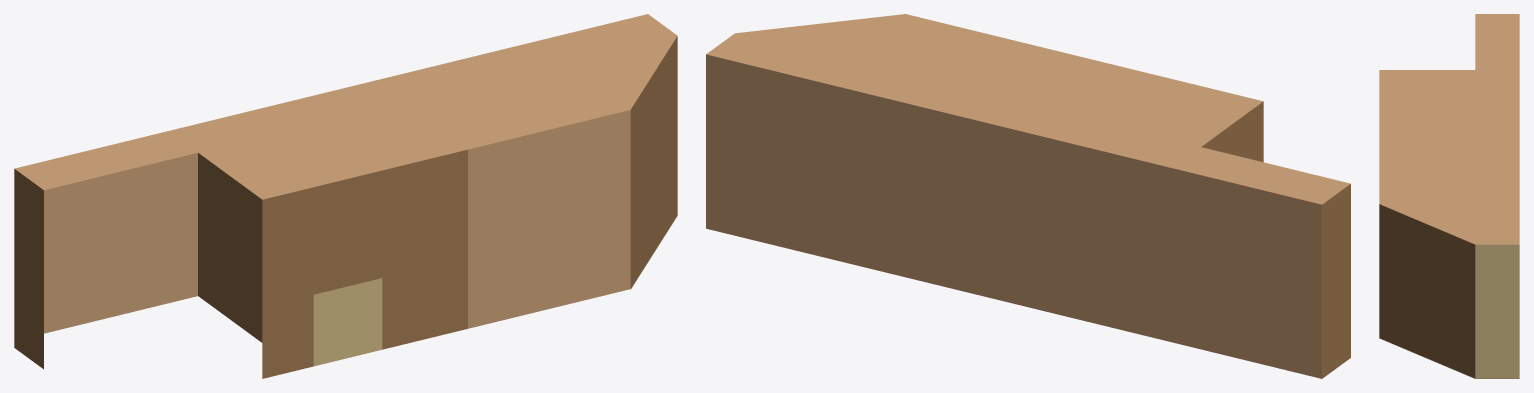
Rendered from complex.glb.
The picture shows the model from 3 angles, left to right: view 1: azimuth 30°, elevation 25°; view 2: azimuth 150°, elevation 25°; view 3: azimuth 270°, elevation 25°; orthographic projection. The views are drawn at different scales.
Visible parts, largest first — view 1: Plane; view 2: Plane; view 3: Plane.
Part boxes in pixels (x1,y1,x2,y2): Plane: (14, 14, 677, 378); Plane: (706, 14, 1350, 378); Plane: (1379, 14, 1519, 378).
Size of what is drawn, in the model's own units: 74 by 20.1 by 19.
